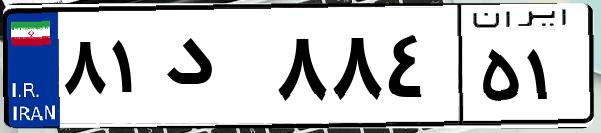1: (525, 38, 570, 115), (110, 28, 158, 98)
4: (385, 28, 445, 110)
5: (475, 38, 525, 113)
8: (270, 28, 330, 110), (330, 28, 385, 110), (57, 26, 110, 100)
د: (158, 20, 270, 120)
